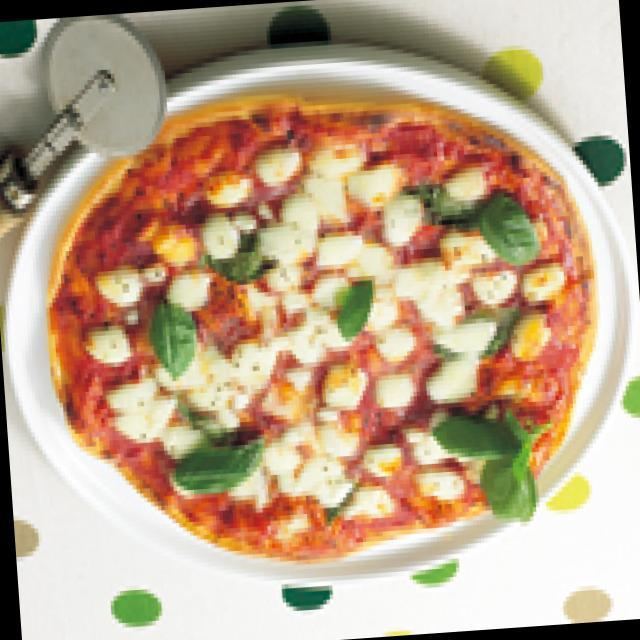Pizza: (22, 78, 612, 580)
